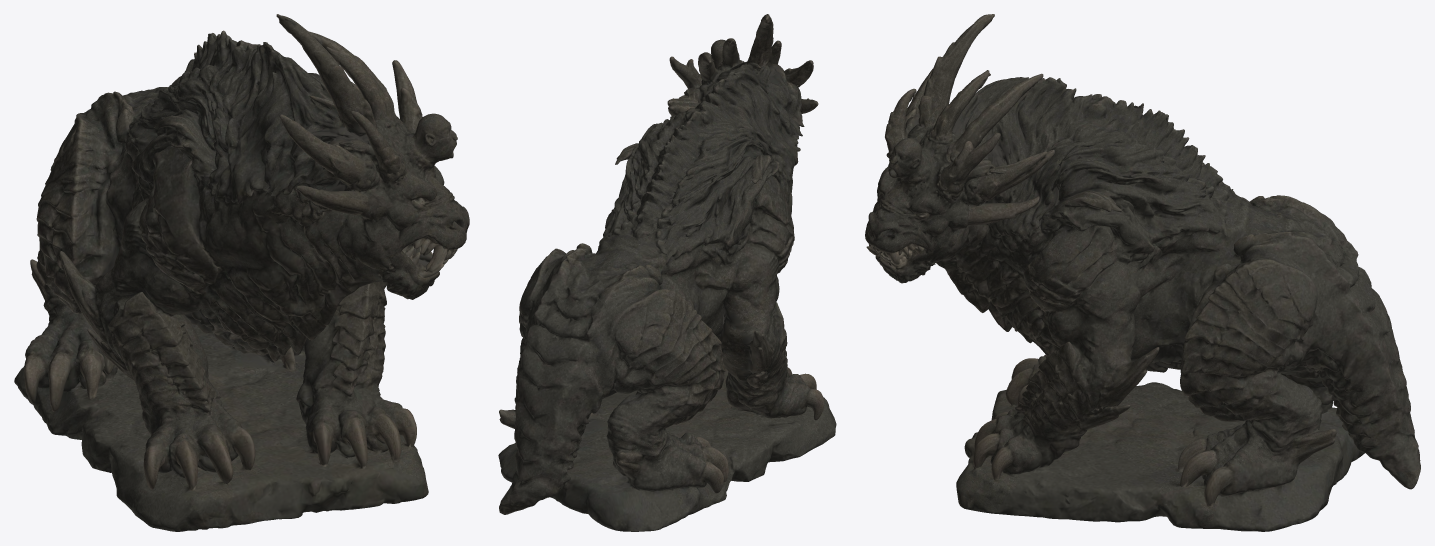
Rendered from beast.glb.
3 renders of one model, left to right at view 1: azimuth 30°, elevation 25°; view 2: azimuth 150°, elevation 25°; view 3: azimuth 270°, elevation 25°, orthographic. The views are drawn at different scales.
Size of the model in its own units: 1.02 by 1.65 by 1.9.
1 material, 1 textured.
